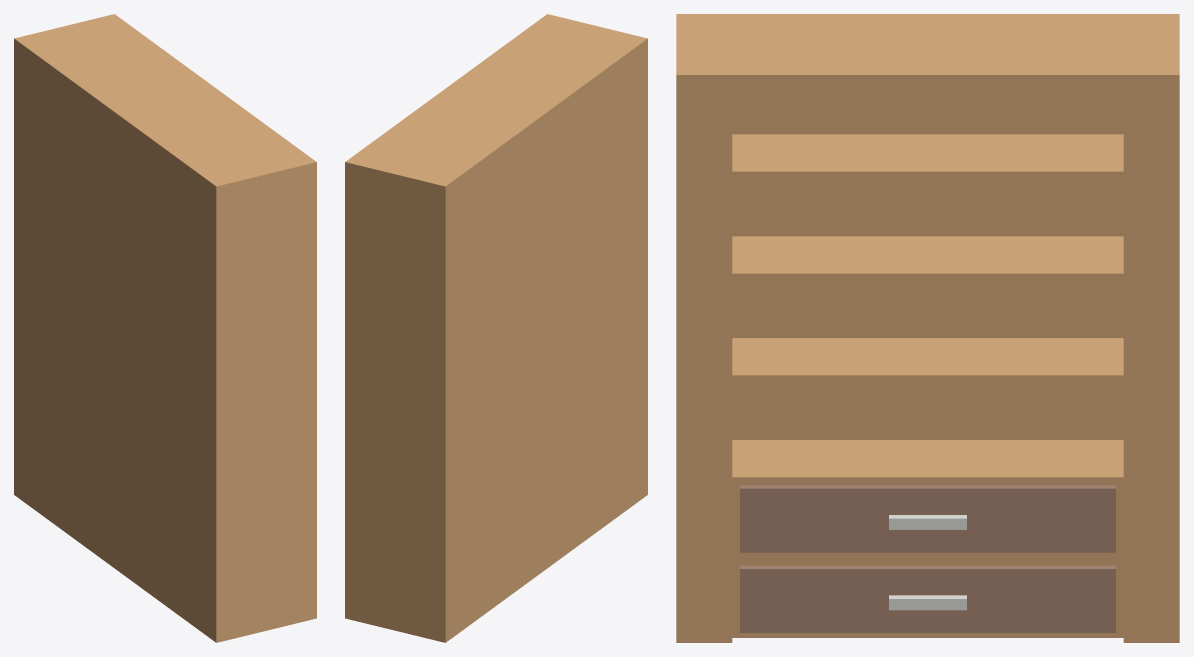
File: bookshelf.fbx
3 renders of one model, left to right at view 1: azimuth 30°, elevation 25°; view 2: azimuth 150°, elevation 25°; view 3: azimuth 270°, elevation 25°, orthographic. The views are drawn at different scales.
Visible parts, largest first — view 1: bookshelf; view 2: bookshelf; view 3: bookshelf.
Boxes of the visible parts, bbox=[...] form: bookshelf: bbox=[14, 14, 316, 642]; bookshelf: bbox=[345, 14, 647, 642]; bookshelf: bbox=[676, 14, 1179, 642].
Size of the model in its own units: 224 by 66.22 by 279.
